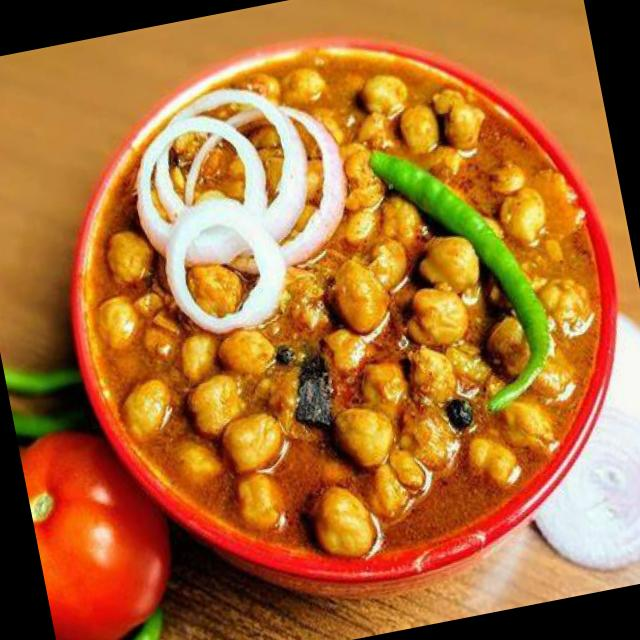Chole: (43, 3, 640, 601)
